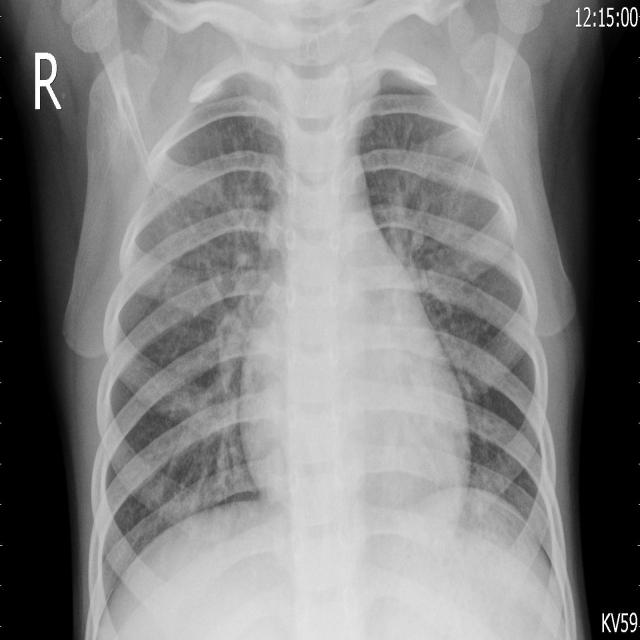low-pneumonia: (210, 212, 283, 394), (387, 182, 469, 328)
